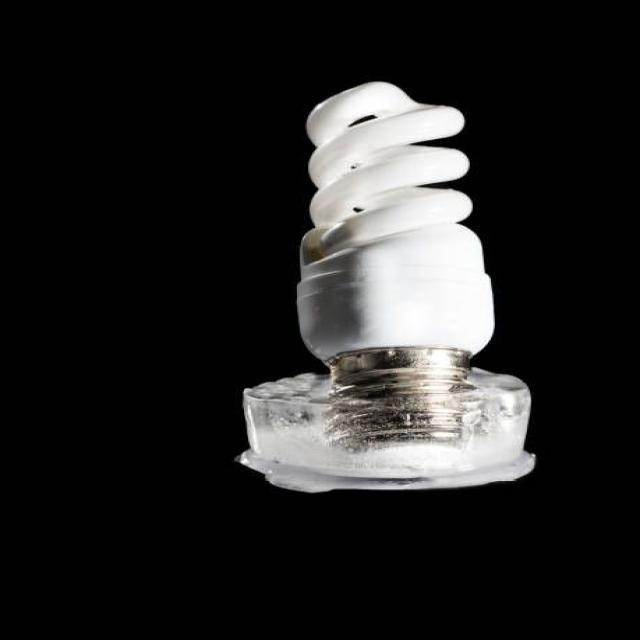electronic: (233, 80, 537, 492), (294, 80, 496, 367)
